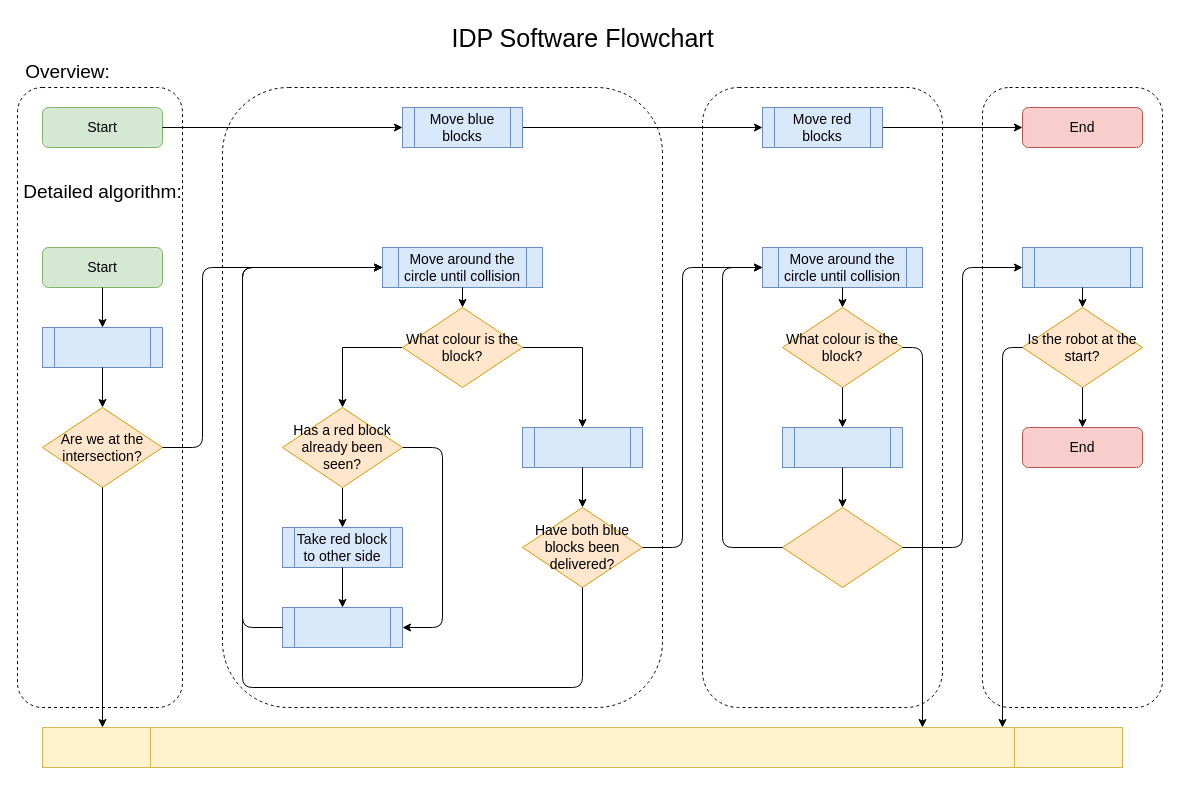
Image size: 1180x785. Some labels were removed from this diagram. Here are the shapes that lost their labels. From the top down, the centre of each, then its label:
point 1082,267: Go back to start
point 102,347: Move through the tunnel
point 582,447: Deliver blue block
point 842,447: Deliver block
point 842,547: Have both red blocks been delivered?
point 342,627: Change direction
point 582,747: Check with computer vision
